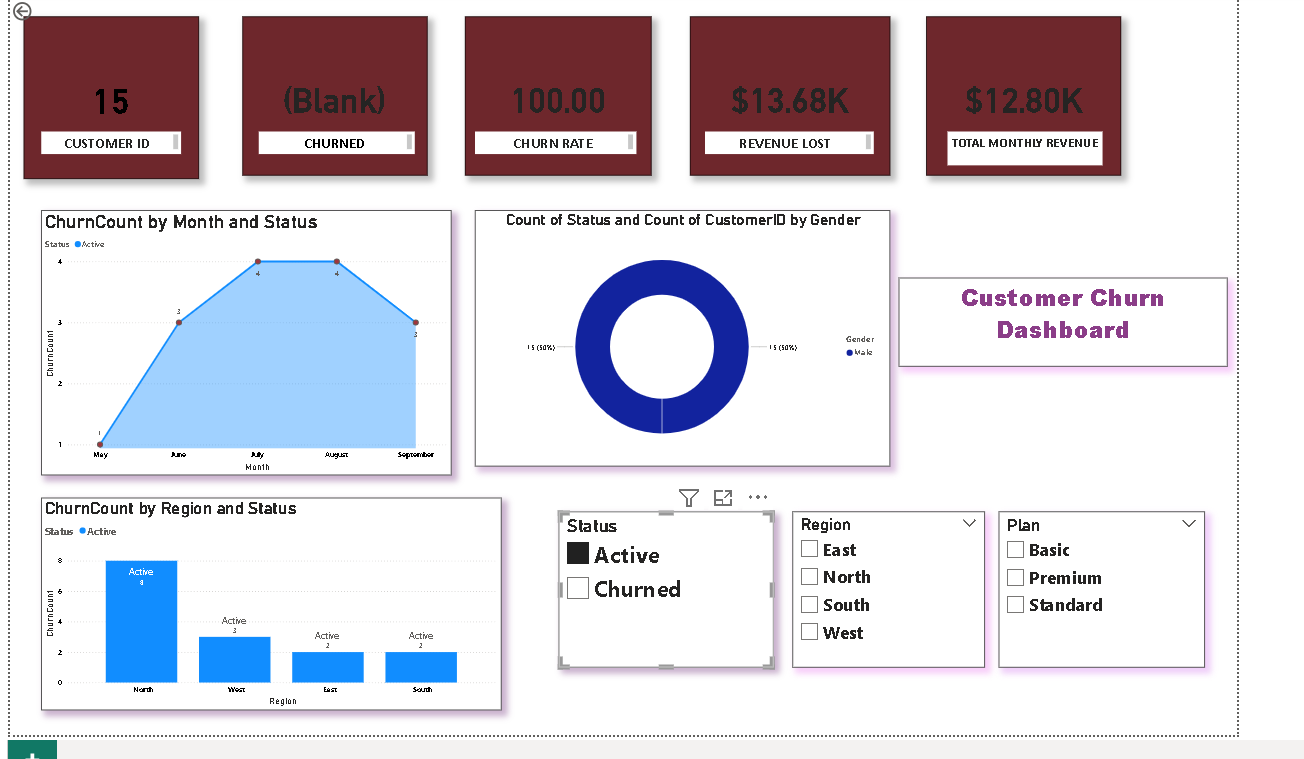

This screenshot's page, from the dashboard's own definition file:
{"tool":"powerbi","page":{"name":"Page 1","canvas":[2000,1200],"ordinal":0},"visuals":[{"type":"card","fields":{"Values":["Count(Sheet1.CustomerID)"]},"box":[22.4,28.5,285.3,264.9],"z":0},{"type":"card","fields":{"Values":["Count(Sheet1.CustomerID)"]},"box":[379.1,28.5,301.6,258.8],"z":1000},{"type":"actionButton","box":[0,0,100,40],"z":2000},{"type":"card","fields":{"Values":["Sheet1.ChurnRate"]},"box":[741.9,28.5,303.7,258.8],"z":3000},{"type":"card","fields":{"Values":["Sheet1.TotalMonthlyRevenue"]},"box":[1493.9,28.5,317.9,258.8],"z":4000},{"type":"card","fields":{"Values":["Sheet1.RevenueLost"]},"box":[1108.7,28.5,326.1,258.8],"z":5000},{"type":"lineChart","fields":{"Category":["Sheet1.ChurnDate.Variation.Date Hierarchy.Month"],"Y":["Sheet1.ChurnCount"],"Series":["Sheet1.Status"]},"box":[51,344.4,668.5,432.1],"z":6000},{"type":"columnChart","fields":{"Category":["Sheet1.Region"],"Y":["Sheet1.ChurnCount"],"Series":["Sheet1.Status"]},"box":[51,813.2,750,346.5],"z":7000},{"type":"donutChart","fields":{"Category":["Sheet1.Gender"],"Y":["CountNonNull(Sheet1.Status)","CountNonNull(Sheet1.CustomerID)"]},"box":[758.2,344.4,676.6,417.8],"z":8000},{"type":"slicer","fields":{"Values":["Sheet1.Plan"]},"box":[1612.1,835.6,336.3,254.8],"z":9000},{"type":"slicer","fields":{"Values":["Sheet1.Region"]},"box":[1275.8,835.6,313.9,254.8],"z":10000},{"type":"slicer","fields":{"Values":["Sheet1.Status"]},"box":[894.7,835.6,350.5,254.8],"z":11000},{"type":"textbox","box":[1449.1,454.5,536,144.7],"z":11001}]}

Visuals, with their boxes in screenshot pixels (x1, y1, x2, y2):
card - Count(Sheet1.CustomerID): region(7, 14, 186, 180)
card - Count(Sheet1.CustomerID): region(230, 14, 419, 176)
actionButton: region(0, 0, 56, 22)
card - Sheet1.ChurnRate: region(457, 14, 647, 176)
card - Sheet1.TotalMonthlyRevenue: region(927, 14, 1126, 176)
card - Sheet1.RevenueLost: region(686, 14, 890, 176)
lineChart - Sheet1.ChurnDate.Variation.Date Hierarchy.Month x Sheet1.ChurnCount: region(25, 212, 443, 482)
columnChart - Sheet1.Region x Sheet1.ChurnCount: region(25, 505, 494, 722)
donutChart - Sheet1.Gender x CountNonNull(Sheet1.Status): region(467, 212, 890, 473)
slicer - Sheet1.Plan: region(1001, 519, 1211, 678)
slicer - Sheet1.Region: region(791, 519, 987, 678)
slicer - Sheet1.Status: region(553, 519, 772, 678)
textbox: region(899, 281, 1234, 371)
